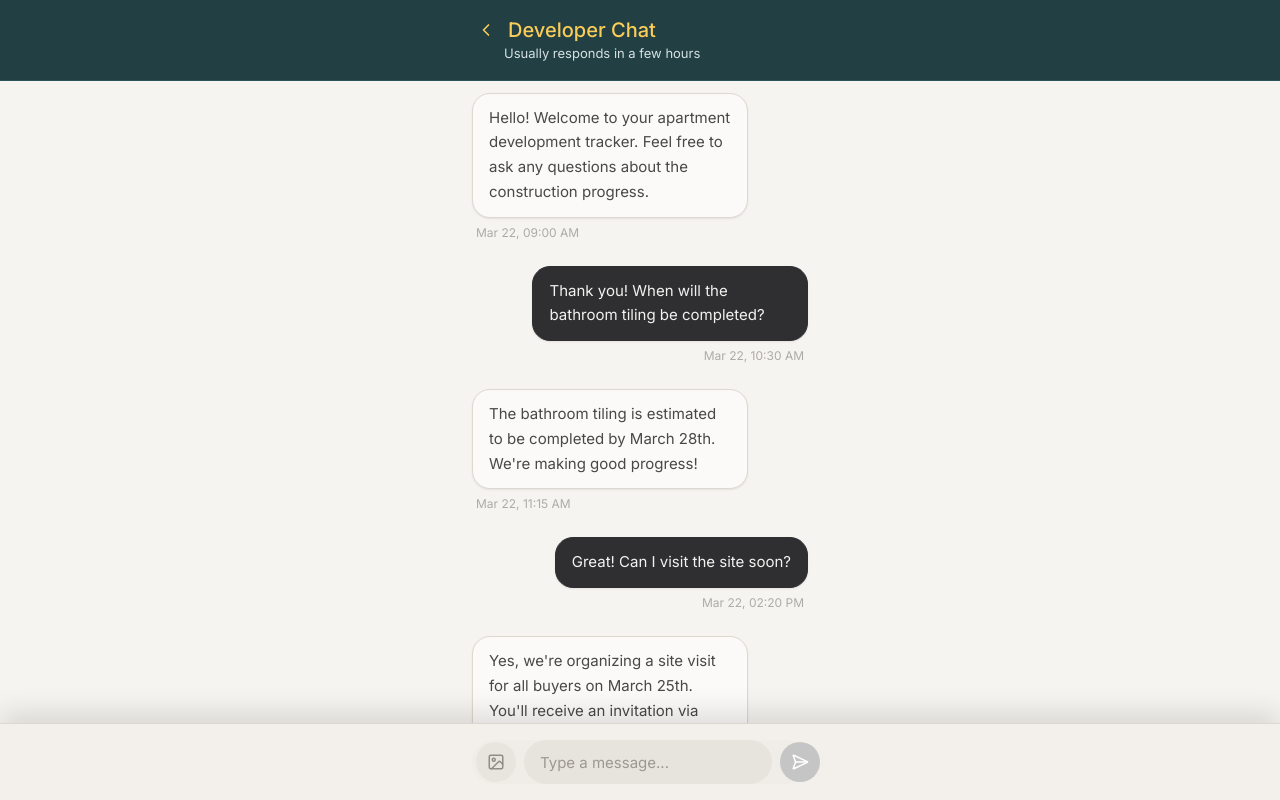
Test case: Liisi Chat Page › allows sending a message from the input
Type "Kas rõdu klaasitakse ka?" into the field named "Message input" at (648, 762), box [524,740,772,784]
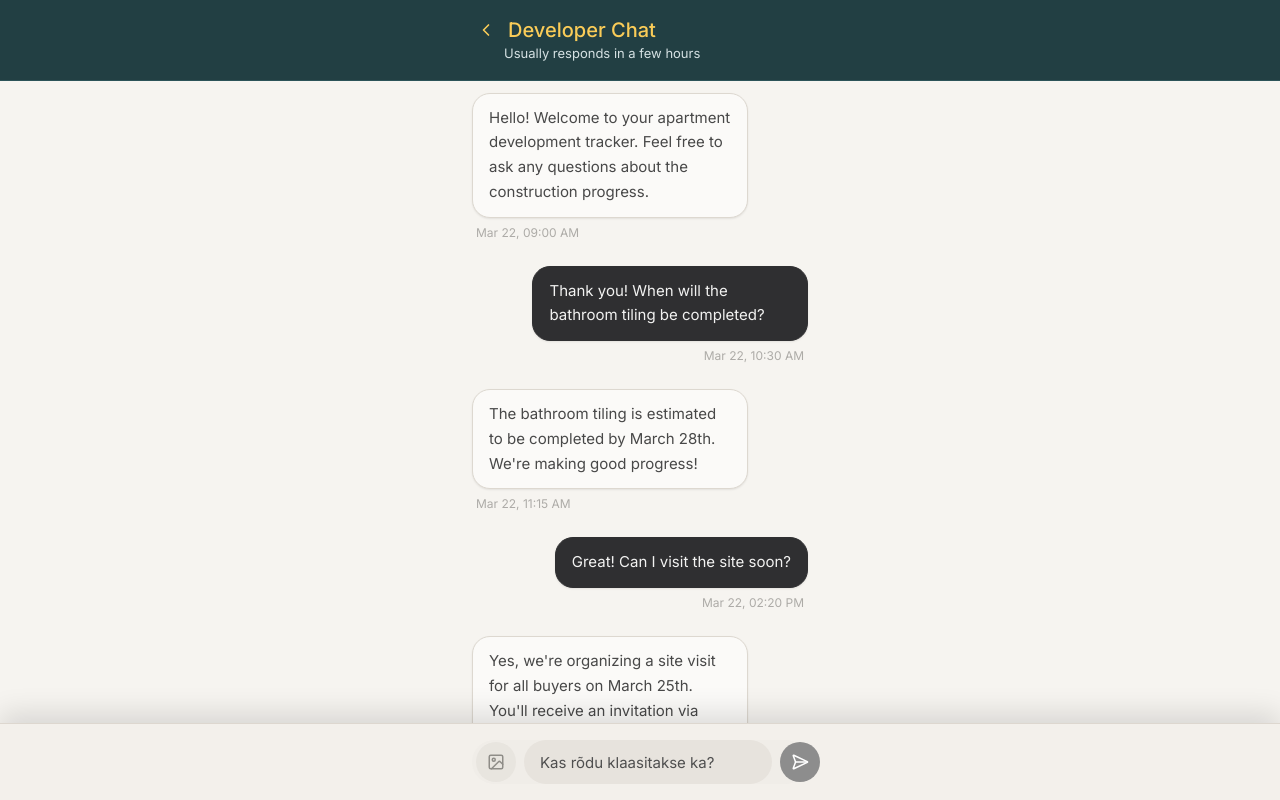
Click the button named "Send message" at (800, 762), box [780,742,820,782]
(page scrolled)
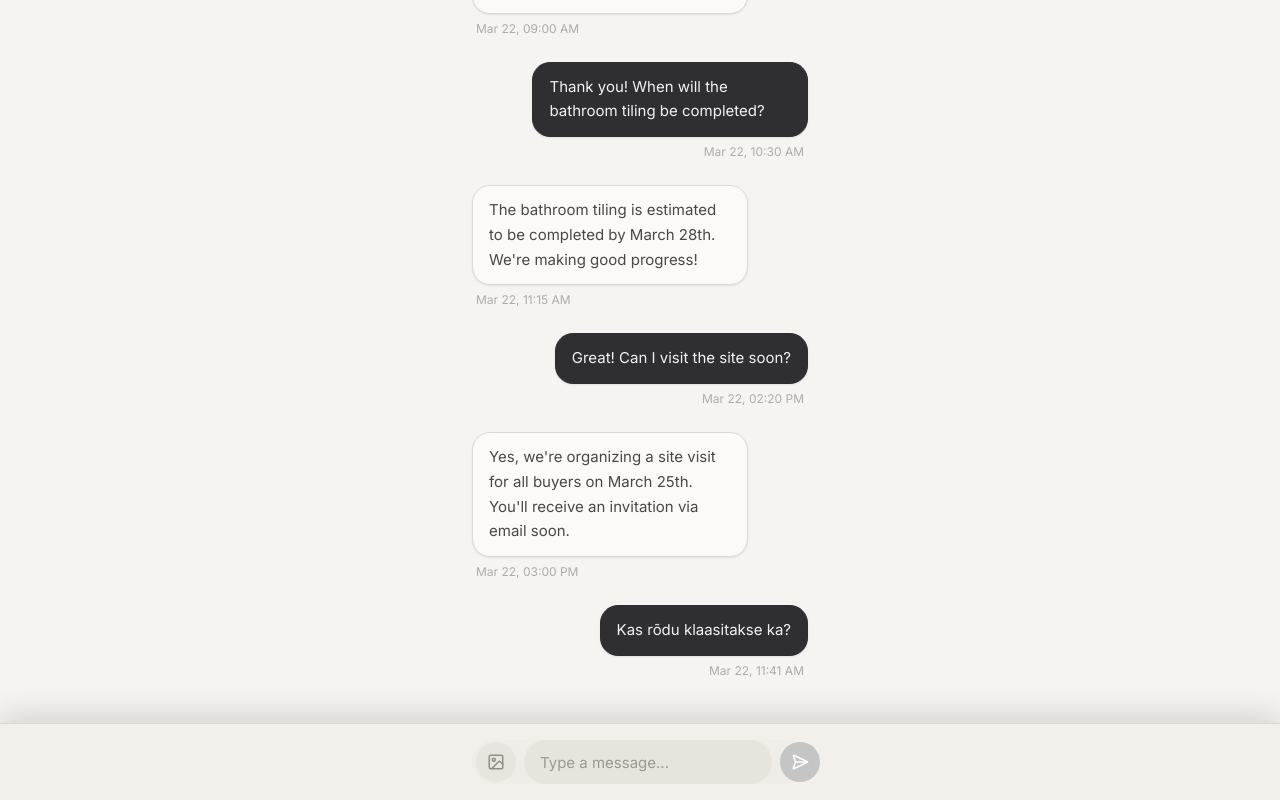
Expected: the text "Kas rõdu klaasitakse ka?" is shown, [600,605,808,656]
